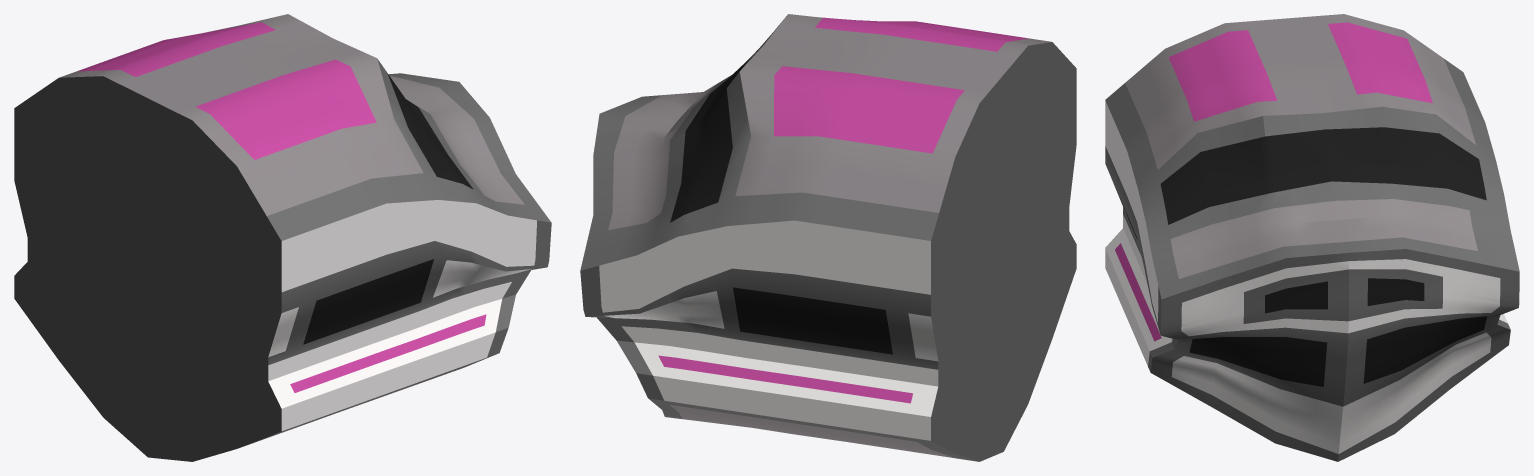
File: sscockpit.fbx
3 renders of one model, left to right at view 1: azimuth 30°, elevation 25°; view 2: azimuth 150°, elevation 25°; view 3: azimuth 270°, elevation 25°, orthographic. The views are drawn at different scales.
Parts seen in each view (by area): view 1: cockpit; view 2: cockpit; view 3: cockpit.
Part boxes in pixels (x1=…): cockpit: x1=14, y1=14, x2=551, y2=461; cockpit: x1=580, y1=14, x2=1076, y2=461; cockpit: x1=1105, y1=14, x2=1519, y2=461.
Size of the model in its own units: 170 by 155 by 182.
